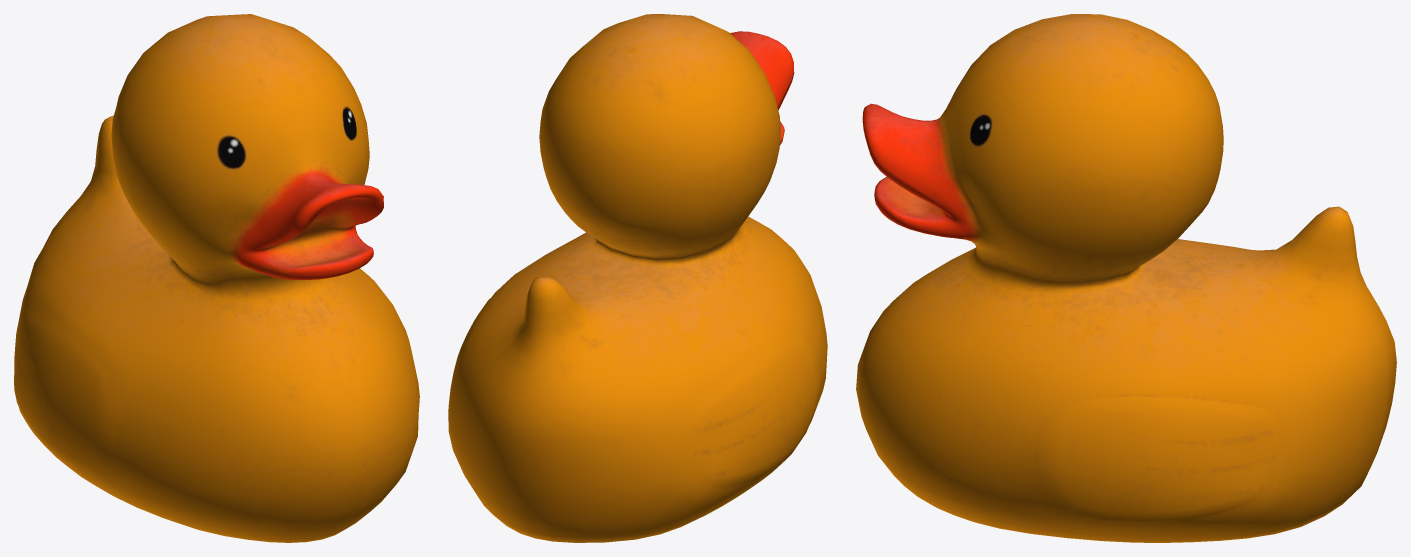
3 views of the same model, side by side, from view 1: azimuth 30°, elevation 25°; view 2: azimuth 150°, elevation 25°; view 3: azimuth 270°, elevation 25° (orthographic). The views are drawn at different scales.
Parts seen in each view (by area): view 1: rubber_duck_toy; view 2: rubber_duck_toy; view 3: rubber_duck_toy.
Part boxes in pixels (bbox=[...]): rubber_duck_toy: bbox=[14, 14, 419, 542]; rubber_duck_toy: bbox=[448, 14, 827, 542]; rubber_duck_toy: bbox=[856, 14, 1396, 542].
Size of the model in its own units: 0.2135 by 0.2855 by 0.3.
1 material, 1 textured.
